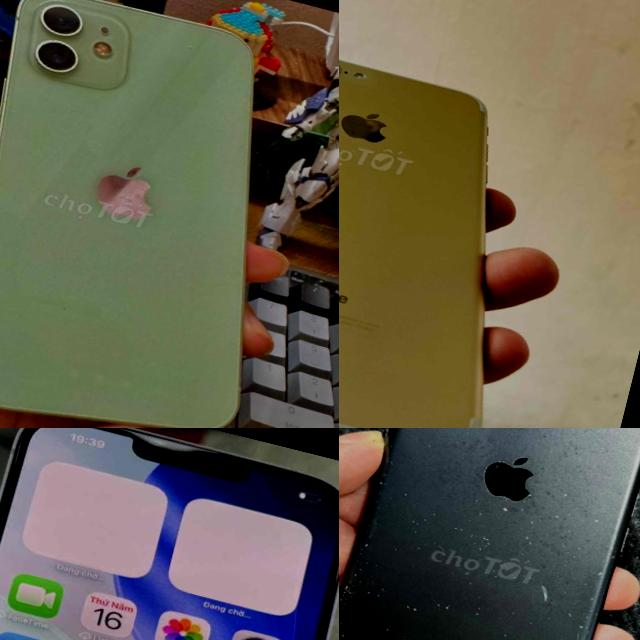gen_12_13: (0, 0, 324, 428)
gen_14: (0, 428, 339, 640)
gen_7_8: (339, 428, 640, 640), (339, 59, 486, 428)
